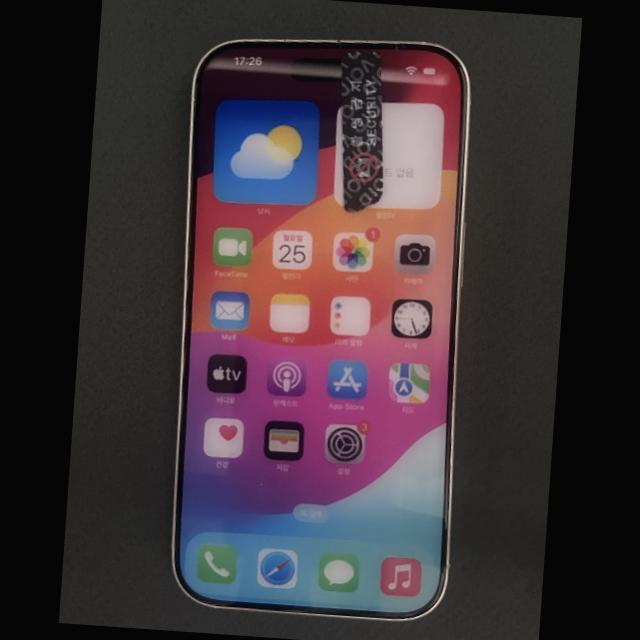phone: (174, 41, 469, 618)
sticker: (340, 51, 383, 212)
